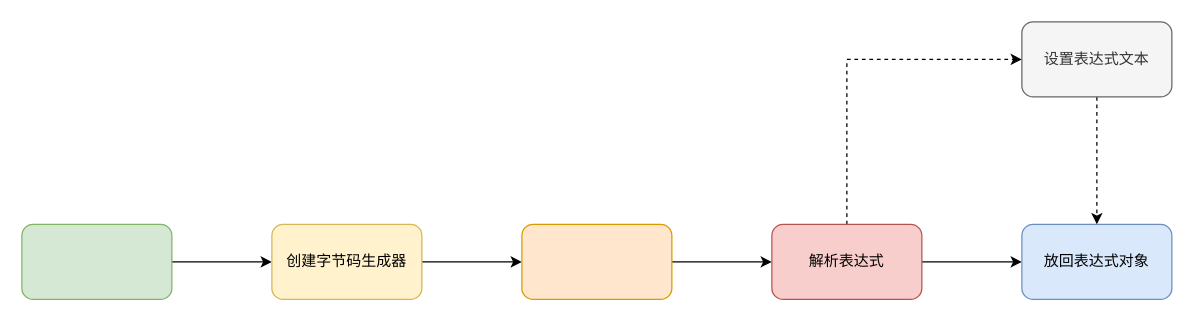
This 1194x321 diagram has some shape labels left out. The shapes that lost their labels are listed below. From the top down, each one's box as (x1, y1, x2, y2) in pixels, then its label:
(21, 223, 172, 299): 创建词法分析器
(521, 223, 672, 299): 创建表达式解析器
